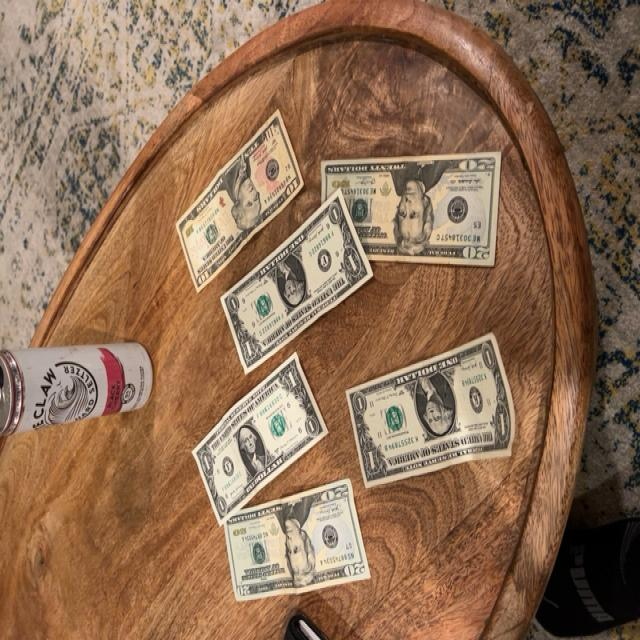one: (346, 333, 517, 488), (192, 352, 329, 526)
ten: (175, 109, 304, 293)
twenty: (320, 151, 502, 268), (224, 478, 372, 602)
